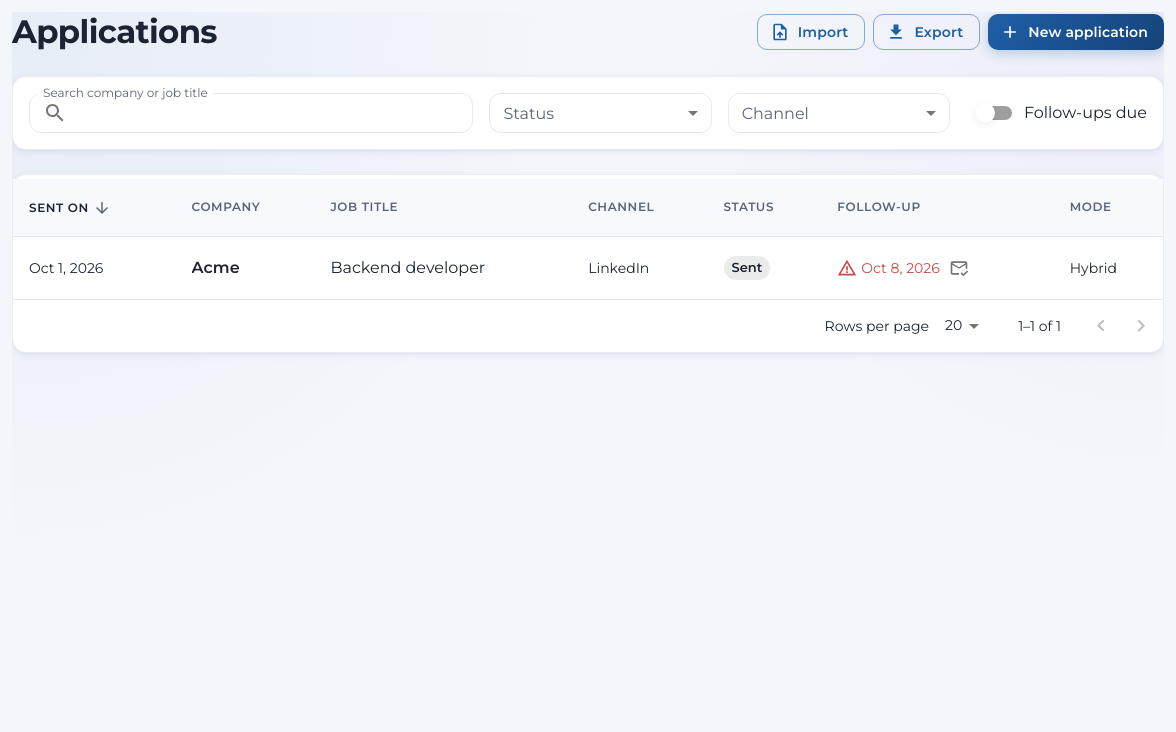
Scenario: ApplicationsPage › recording a follow-up › reports a failed undo
Expected: the text "Acme" is shown, [192,258,240,277]
Click the button named "I followed up": (959, 268) [944,253,974,283]
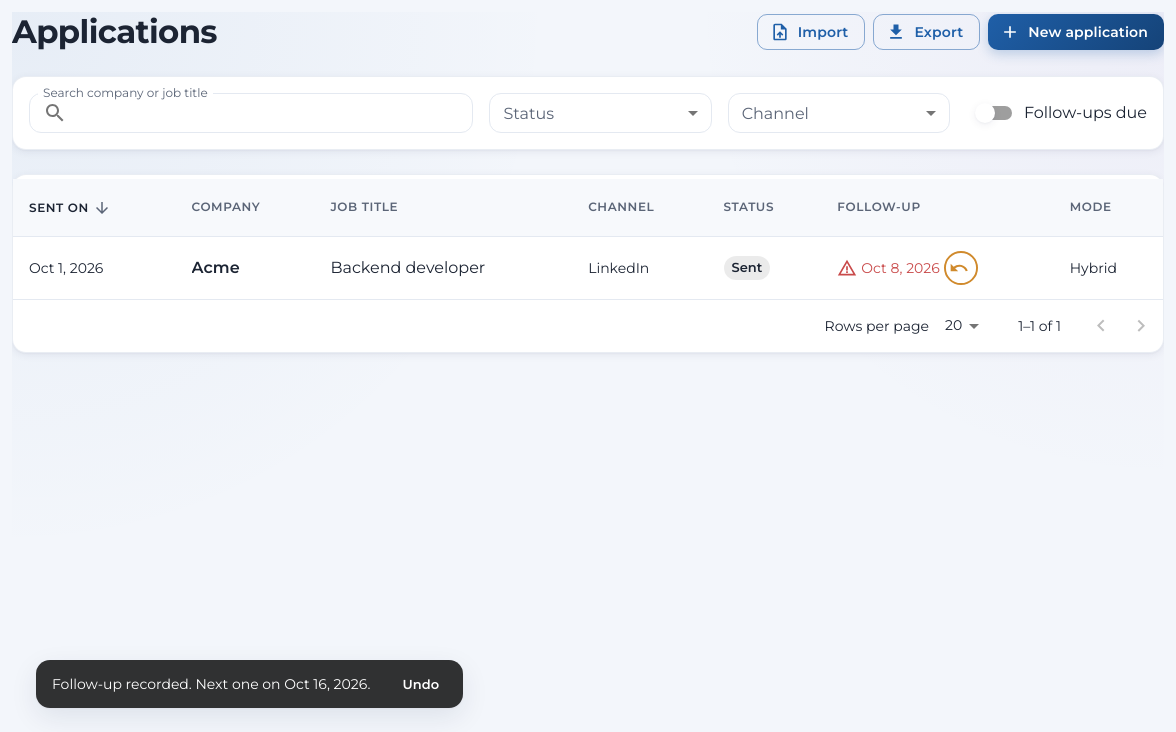
Click the button "Undo": (421, 684) [386,669,455,699]
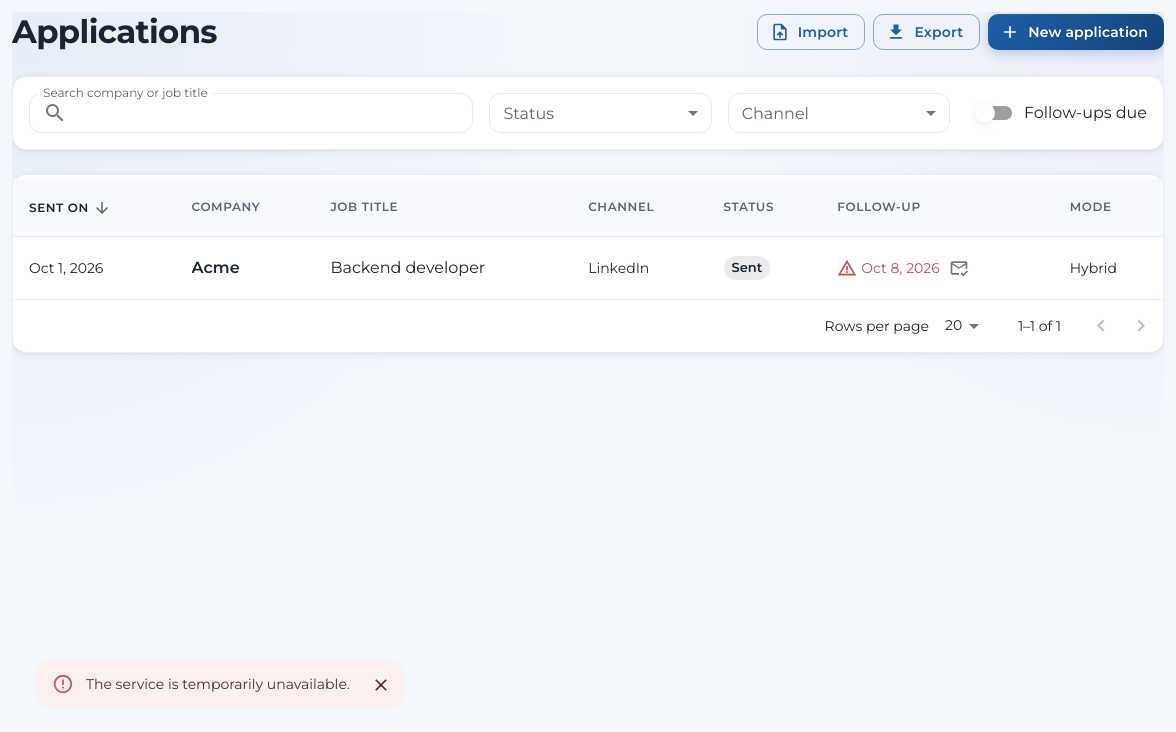
Result: the message reads "The service is temporarily unavailable." at [86,675,350,693]
